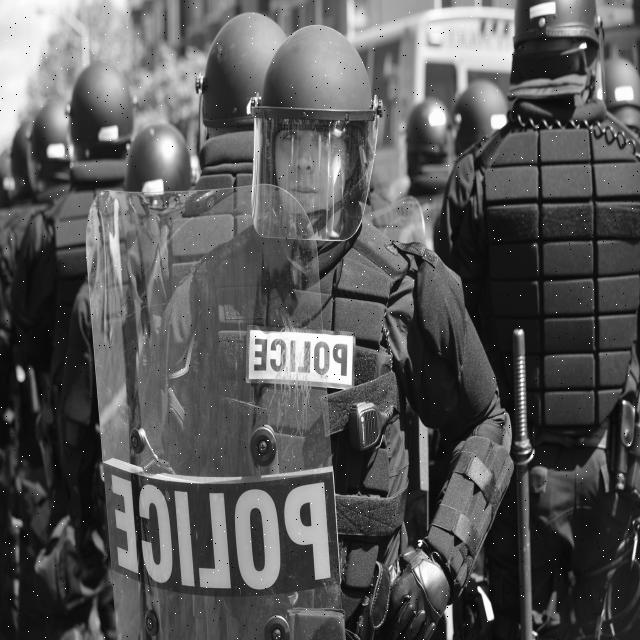police: (170, 32, 506, 640)
